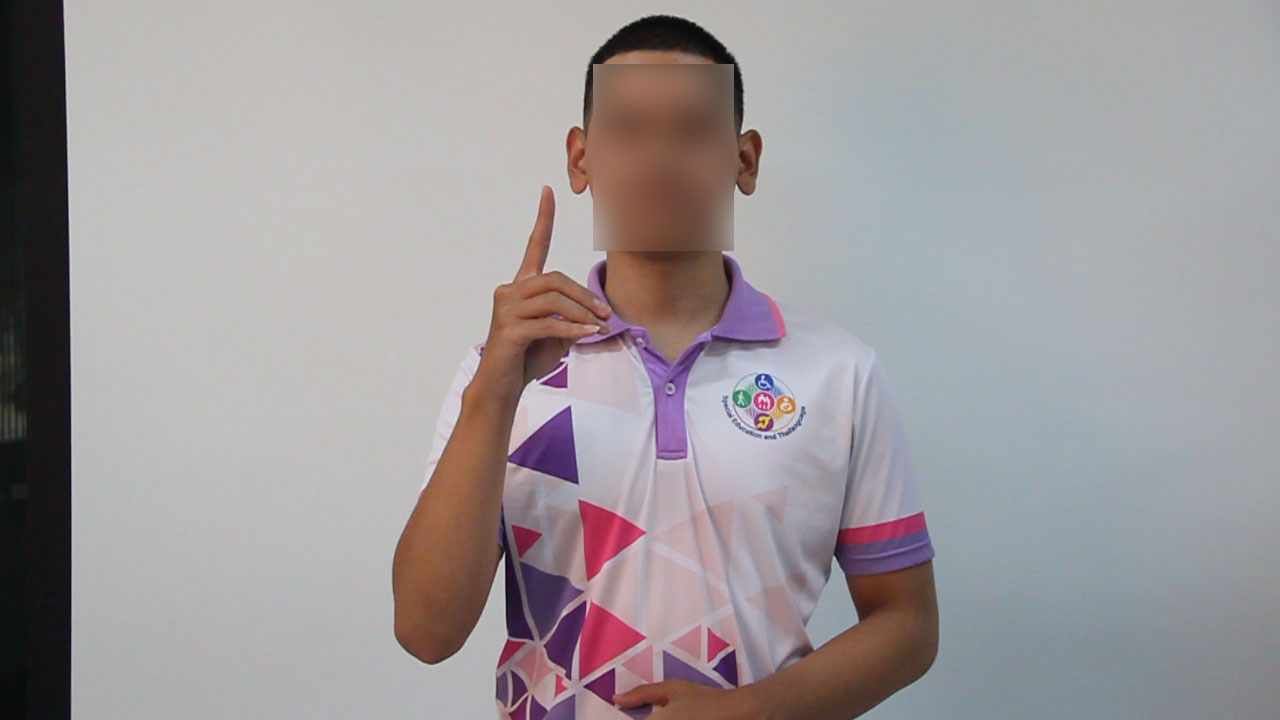dor: (460, 178, 617, 393)
